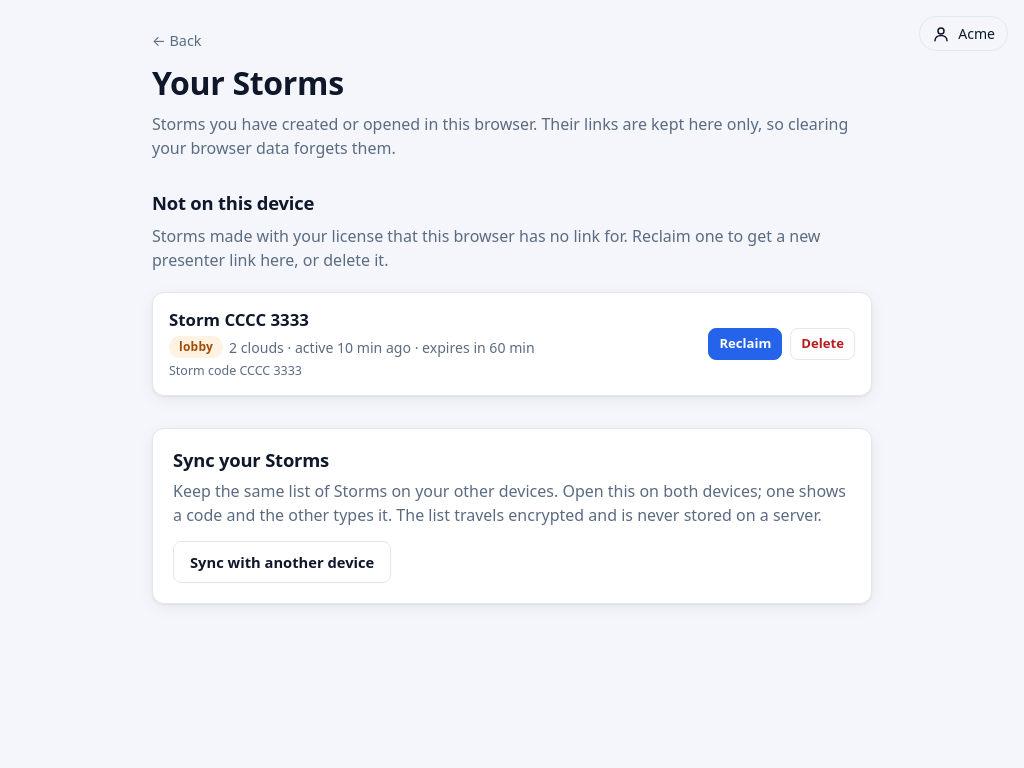
Test: StormsView, Storms made under the license that this browser does not know › shows the reason on the row when a reclaim is refused, and stays on the page
Step 1. Click the button with class "reclaim" → (745, 344), box [708,328,782,360]
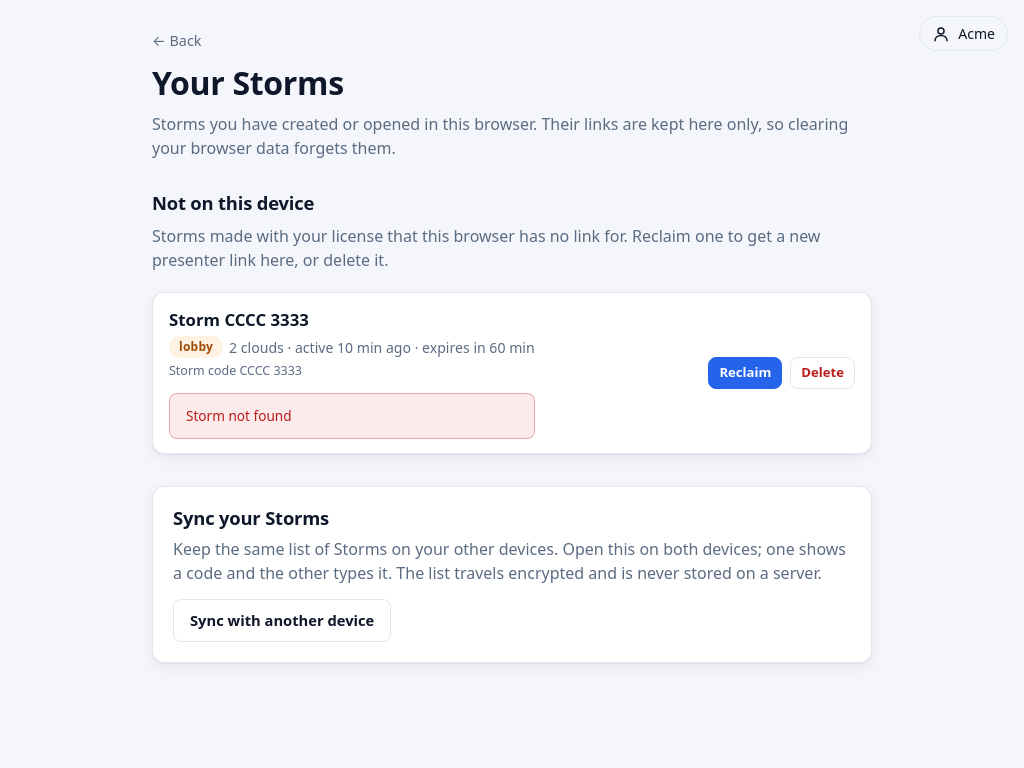
Expected: the message "Storm not found" is shown, [169,393,535,439]
